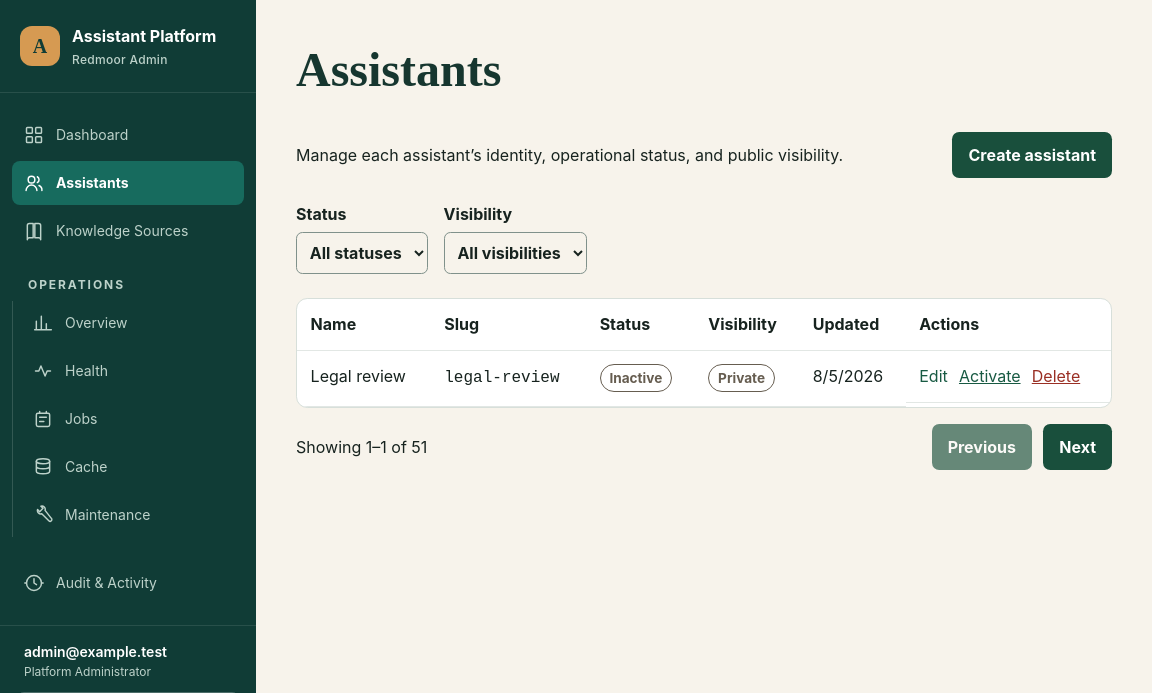
Test: administrator application workflows › pages through the complete assistant collection using backend offsets
expect the text "Showing 1–1 of 51" is shown: met, box [296,435,427,459]
Click the button "Next" at (1078, 447), box [1043,424,1112,470]
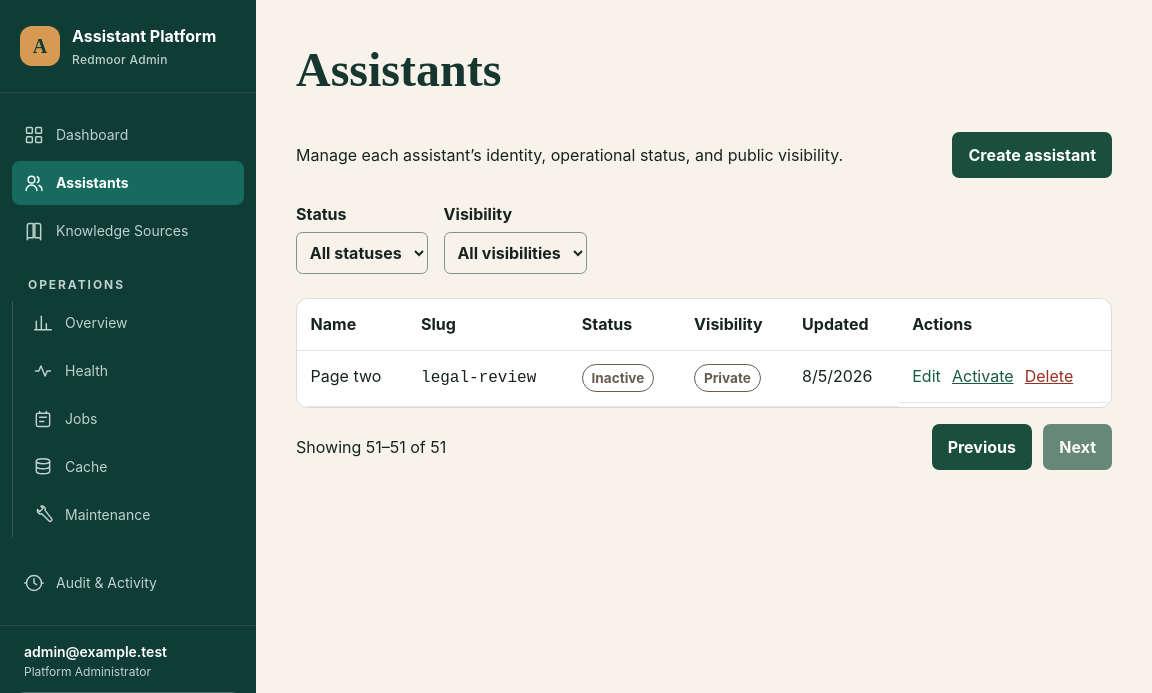
expect the text "Page two" is shown: met, box [297,350,408,407]
